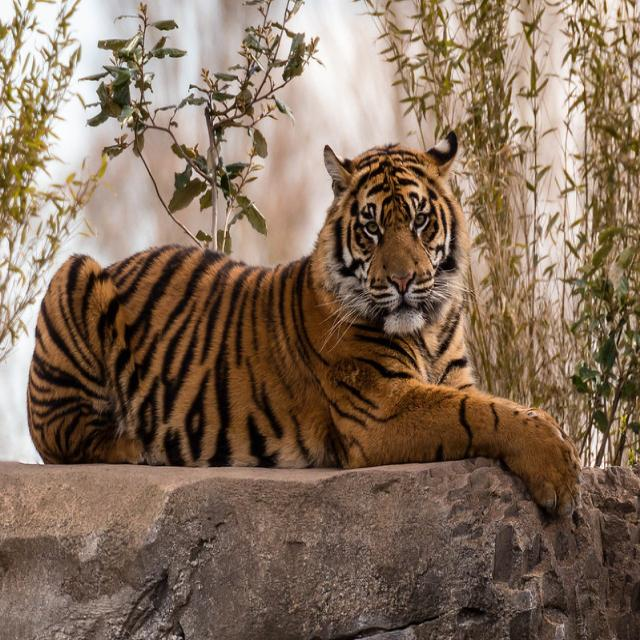Tiger: (25, 134, 580, 516)
